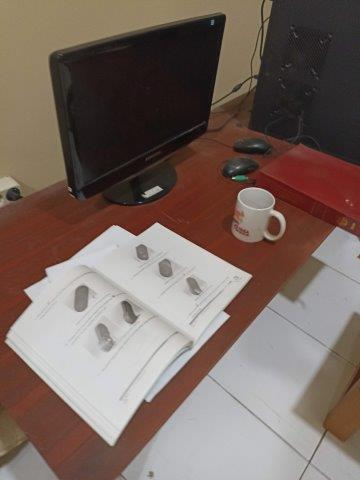kertas: (4, 222, 252, 447)
